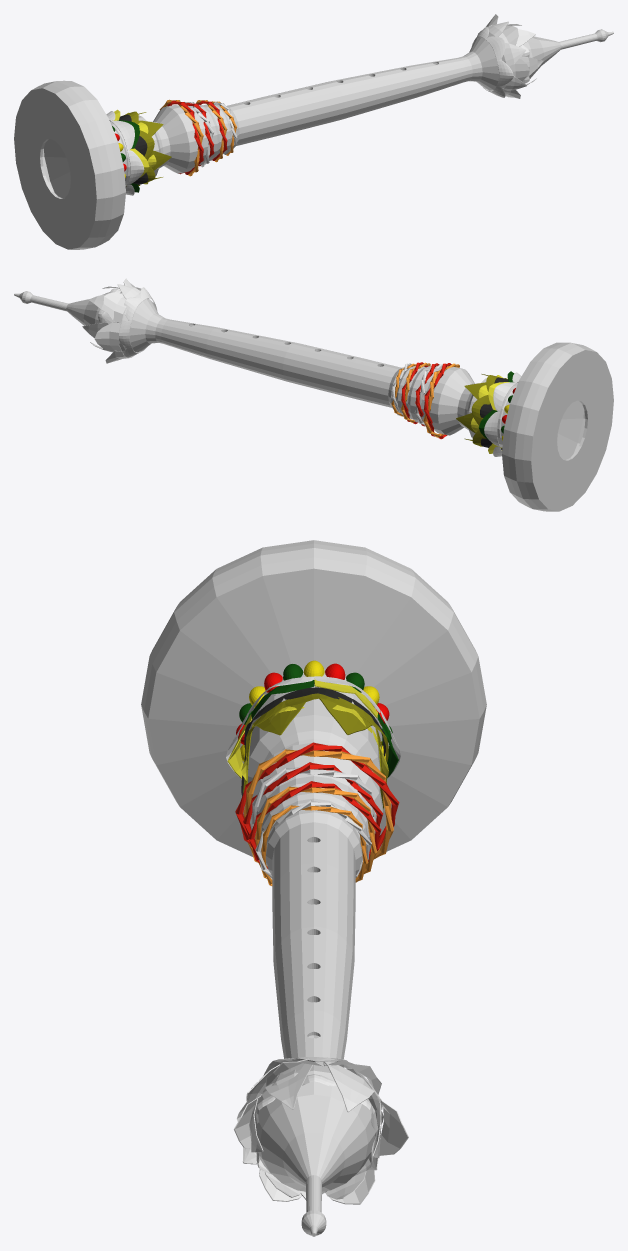
File: New Surune fix.fbx
3 renders of one model, top to bottom at view 1: azimuth 30°, elevation 25°; view 2: azimuth 150°, elevation 25°; view 3: azimuth 270°, elevation 25°, orthographic. The views are drawn at different scales.
Parts seen in each view (by area): view 1: Plane.000, Plane.110, Plane.139, Plane.101, Plane.065, Plane.153, Plane.062, Plane.142, Plane.158, Plane.117, Plane.120; view 2: Plane.000, Plane.153, Plane.101, Plane.110, Plane.065, Plane.062, Plane.139, Plane.142, Plane.158, Plane.117; view 3: Plane.000, Plane.062, Plane.065, Plane.158, Plane.153, Plane.101, Plane.117, Plane.142, Plane.110, Plane.120, Plane.066.
Part boxes in pixels (bbox=[...]): Plane.000: bbox=[14, 29, 613, 249]; Plane.110: bbox=[106, 111, 144, 195]; Plane.139: bbox=[471, 26, 513, 97]; Plane.101: bbox=[120, 111, 171, 186]; Plane.065: bbox=[167, 100, 227, 174]; Plane.153: bbox=[476, 14, 529, 98]; Plane.062: bbox=[159, 99, 236, 176]; Plane.142: bbox=[478, 21, 527, 90]; Plane.158: bbox=[477, 24, 543, 84]; Plane.117: bbox=[112, 109, 156, 184]; Plane.120: bbox=[109, 114, 148, 187]; Plane.000: bbox=[14, 291, 613, 511]; Plane.153: bbox=[94, 278, 137, 363]; Plane.101: bbox=[456, 374, 507, 448]; Plane.110: bbox=[484, 372, 521, 456]; Plane.065: bbox=[401, 362, 451, 439]; Plane.062: bbox=[391, 362, 459, 437]; Plane.139: bbox=[119, 287, 157, 357]; Plane.142: bbox=[101, 284, 148, 353]; Plane.158: bbox=[82, 286, 122, 349]; Plane.117: bbox=[470, 375, 509, 453]; Plane.000: bbox=[141, 540, 486, 1236]; Plane.062: bbox=[243, 749, 393, 885]; Plane.065: bbox=[235, 742, 399, 873]; Plane.158: bbox=[249, 1061, 381, 1199]; Plane.153: bbox=[234, 1058, 408, 1204]; Plane.101: bbox=[243, 693, 388, 809]; Plane.117: bbox=[227, 679, 388, 780]; Plane.142: bbox=[242, 1057, 382, 1199]; Plane.110: bbox=[226, 676, 400, 776]; Plane.120: bbox=[241, 687, 385, 796]; Plane.066: bbox=[250, 768, 376, 848].
Bounding box in the file's own units: 810 × 217 × 217.
